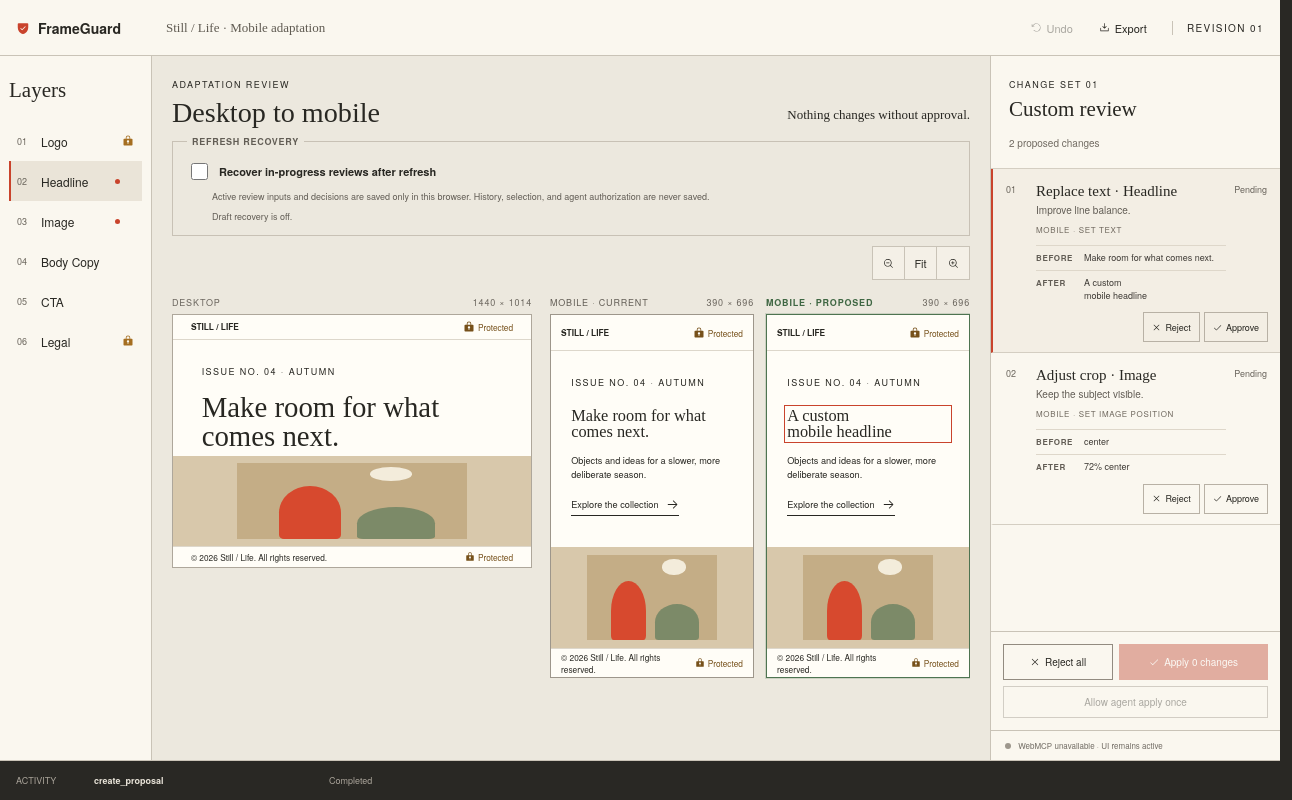
Test: removes a layer proposal indicator as its final decision resolves
expect the option with aria-label "Headline, selected, 1 proposed change" is shown: met, box [9, 161, 142, 201]
Click the button with aria-label "Approve Headline change": (1236, 327) [1204, 312, 1268, 342]
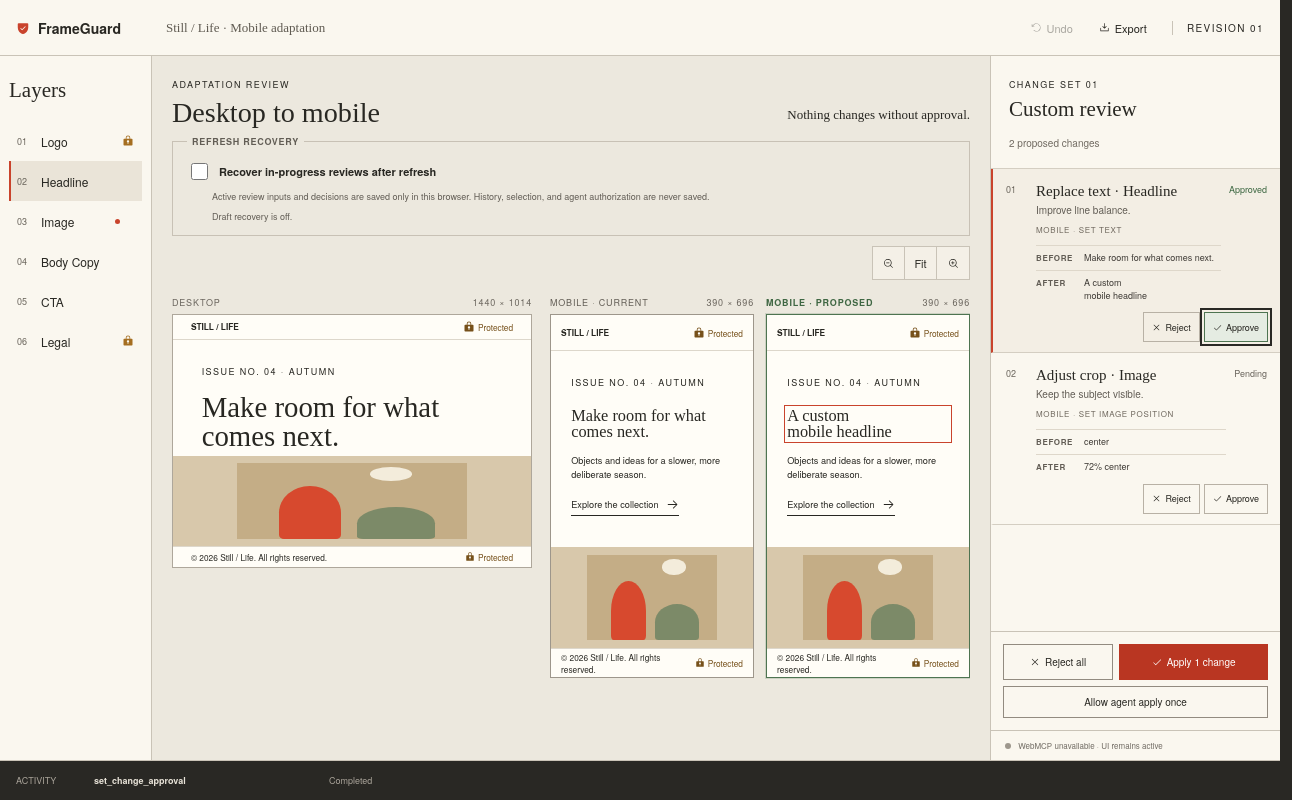
expect the option with aria-label "Image, 1 proposed change" is shown: met, box [17, 212, 120, 230]
expect the option with aria-label "Headline, selected, no proposed changes" is shown: met, box [9, 161, 142, 201]
